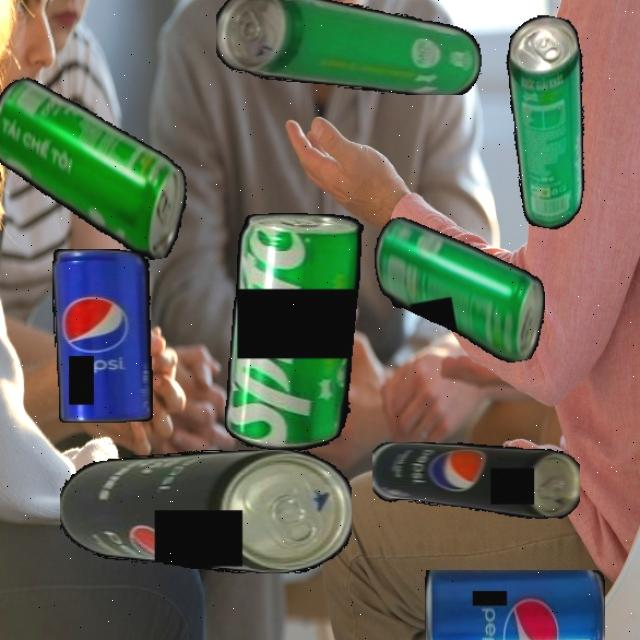debris: (0, 53, 198, 283), (224, 212, 403, 450), (59, 450, 352, 573), (368, 195, 555, 382), (479, 11, 612, 233), (216, 0, 482, 95), (52, 248, 153, 423), (371, 442, 580, 519), (424, 569, 605, 640)
